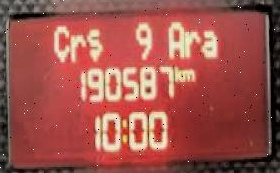0: (148, 108, 168, 148), (127, 108, 146, 150), (100, 110, 119, 151), (102, 63, 120, 100)
1: (92, 111, 100, 150), (79, 67, 86, 102)
5: (121, 63, 137, 100)
7: (157, 62, 172, 98)
8: (139, 63, 155, 98)
9: (134, 18, 151, 58), (86, 65, 102, 100)
X: (166, 18, 183, 57), (53, 23, 69, 62), (85, 26, 102, 60), (182, 28, 200, 57), (200, 27, 216, 57), (69, 31, 85, 60), (181, 65, 195, 81), (120, 113, 126, 143), (174, 61, 181, 80)
